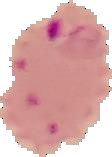parasitized: (42, 6, 105, 60)
